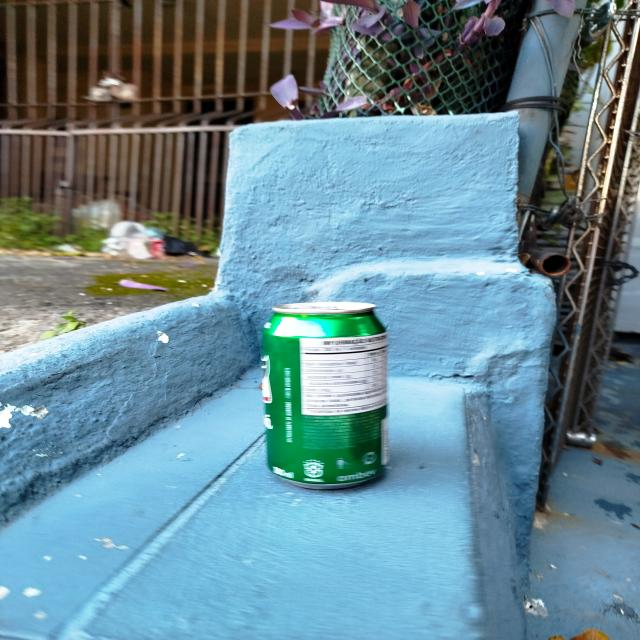Guarana: (261, 304, 387, 491)
